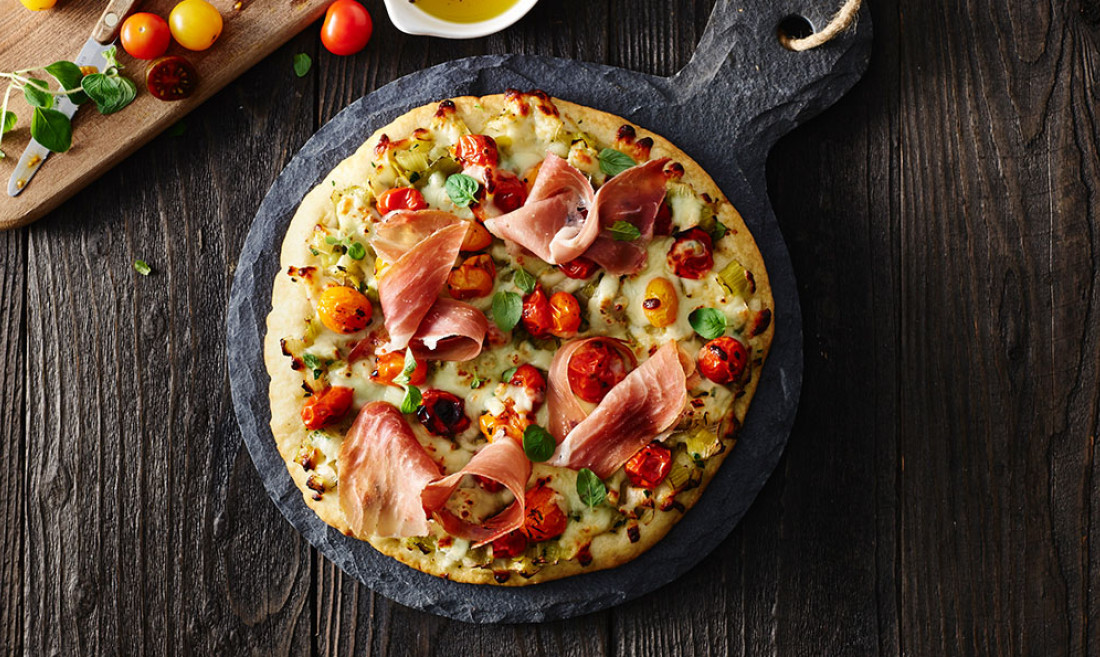Ham: (487, 158, 675, 279), (544, 336, 688, 479), (366, 211, 484, 360), (342, 400, 448, 546), (421, 442, 531, 550)
Pizza: (264, 92, 779, 586)
